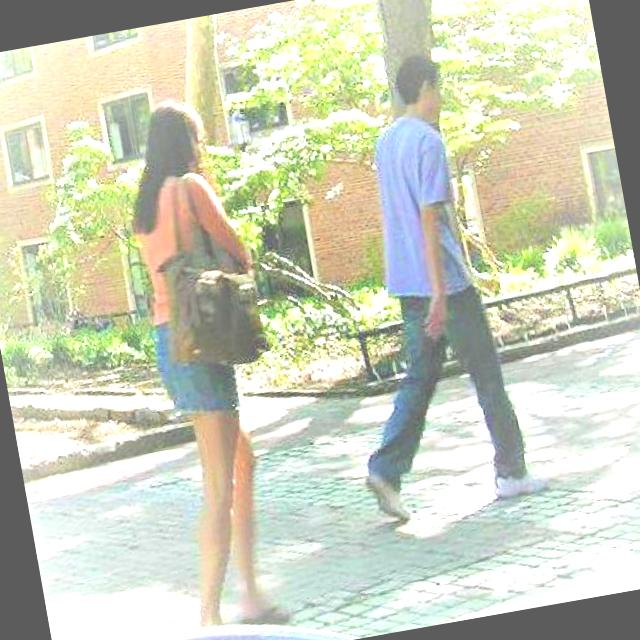Person: (291, 47, 556, 530), (103, 86, 320, 632)
